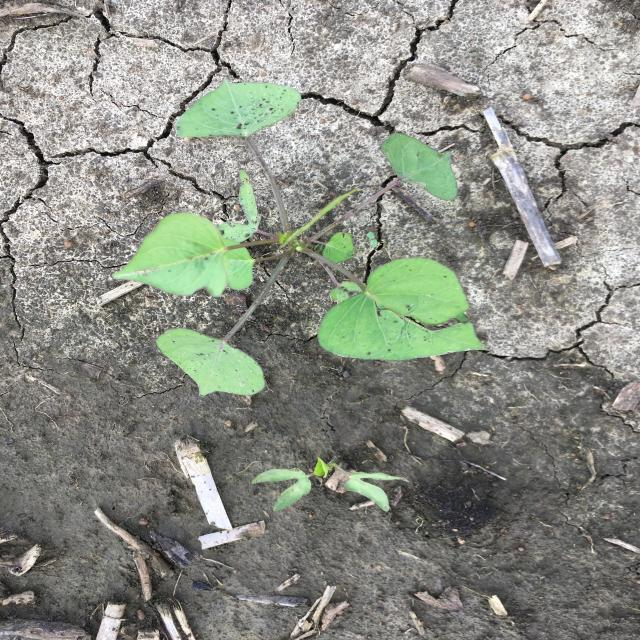MorningGlory: (109, 74, 495, 398), (249, 457, 414, 514)
